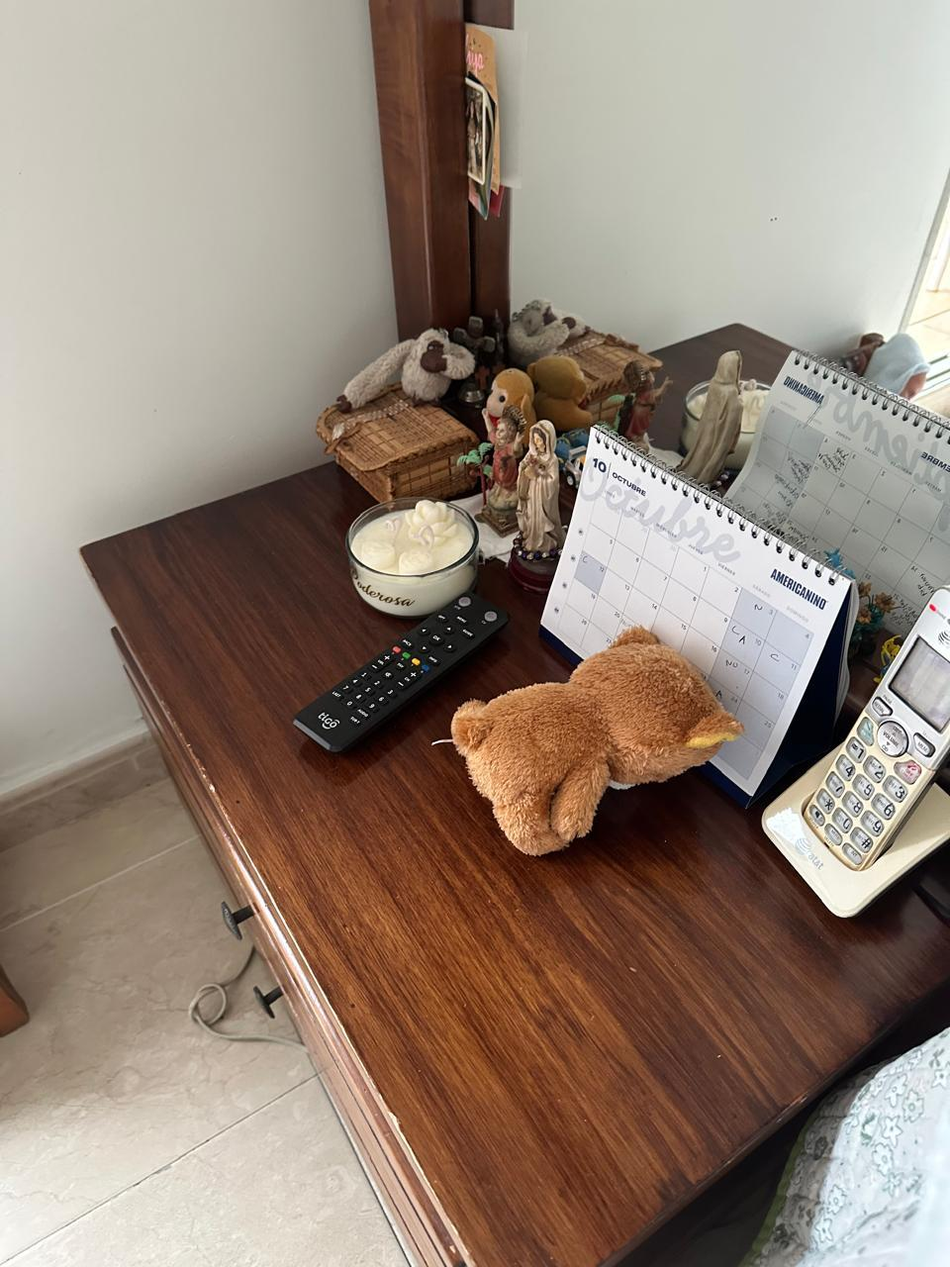peluche_sebastian: (448, 619, 742, 861)
